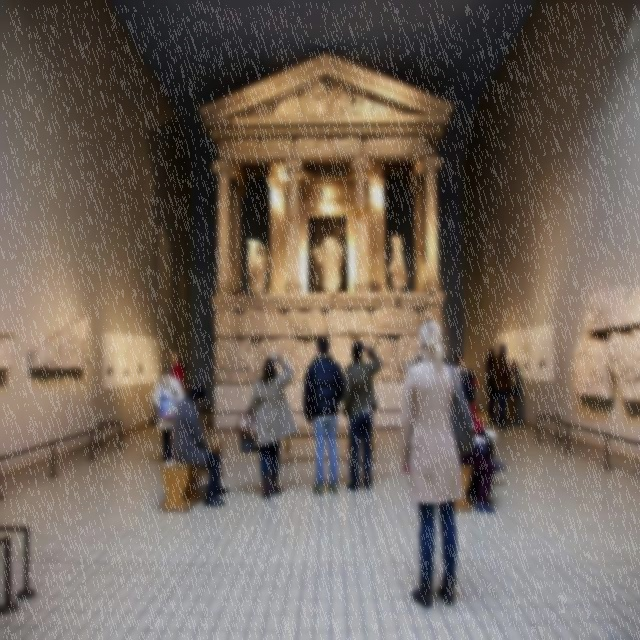pessoa: (394, 316, 476, 609), (243, 232, 412, 296), (234, 350, 298, 500), (302, 336, 351, 497), (170, 382, 229, 508), (341, 339, 384, 492), (461, 369, 507, 473), (458, 421, 496, 514), (152, 362, 186, 463), (493, 342, 512, 430), (484, 348, 499, 424), (508, 358, 520, 427), (455, 352, 468, 402), (170, 350, 183, 387), (179, 353, 186, 394)
